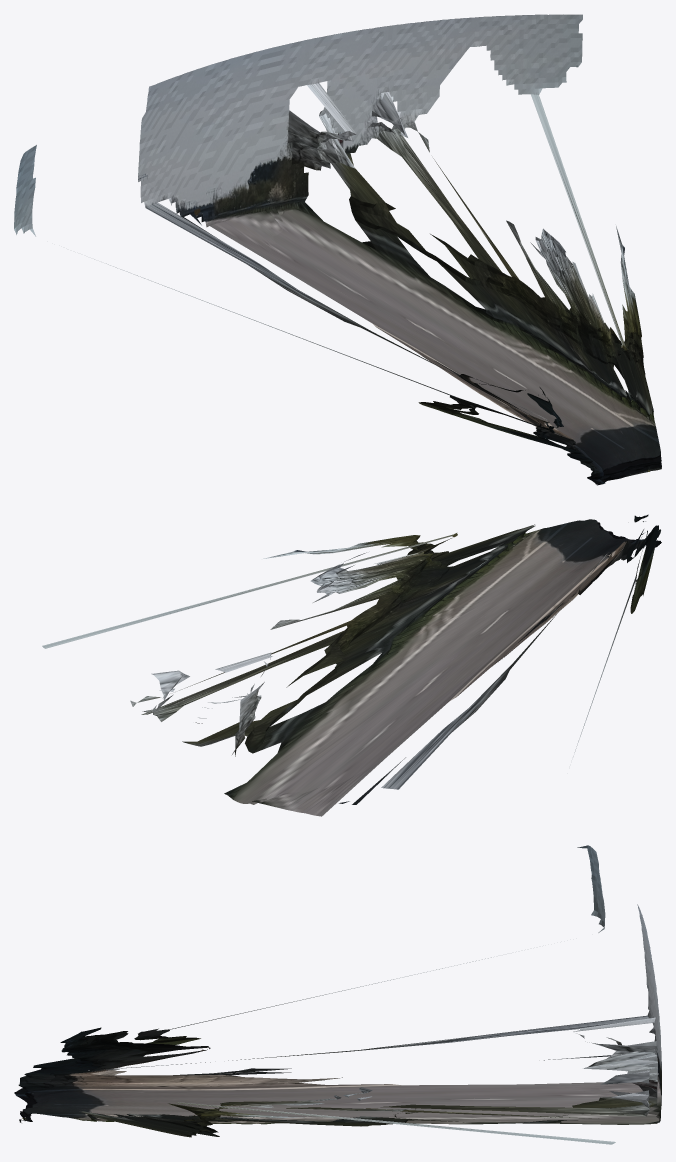
3 renders of one model, top to bottom at view 1: azimuth 30°, elevation 25°; view 2: azimuth 150°, elevation 25°; view 3: azimuth 270°, elevation 25°, orthographic. The views are drawn at different scales.
Parts seen in each view (by area): view 1: defaultobject; view 2: defaultobject; view 3: defaultobject.
Boxes of the visible parts, x1,y1,x2,y2 form: defaultobject: [14, 14, 661, 485]; defaultobject: [42, 514, 661, 816]; defaultobject: [14, 845, 661, 1144].
Bounding box in the file's own units: 40.3 × 11.82 × 44.75.
1 material, 1 textured.
